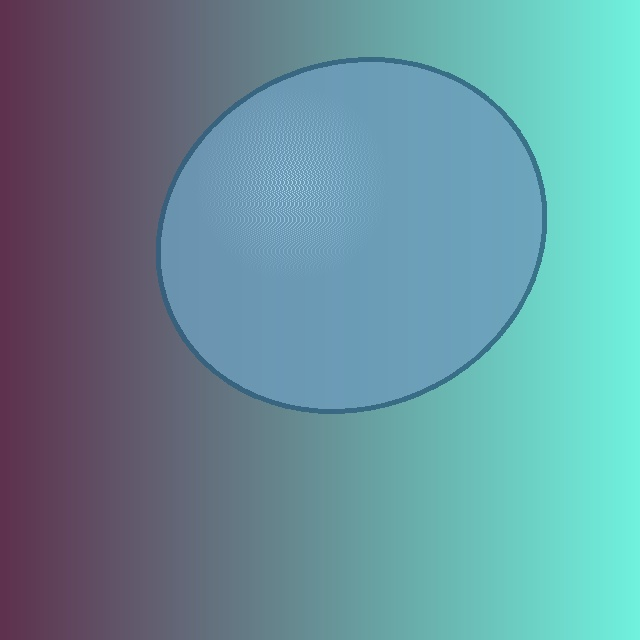lens: (158, 59, 544, 411)
